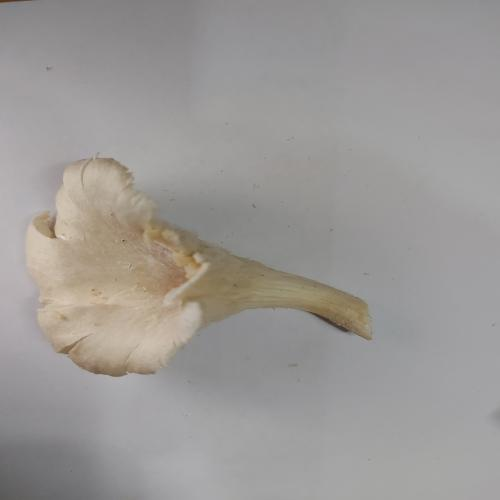Oyster Mushroom: (24, 154, 374, 378)
